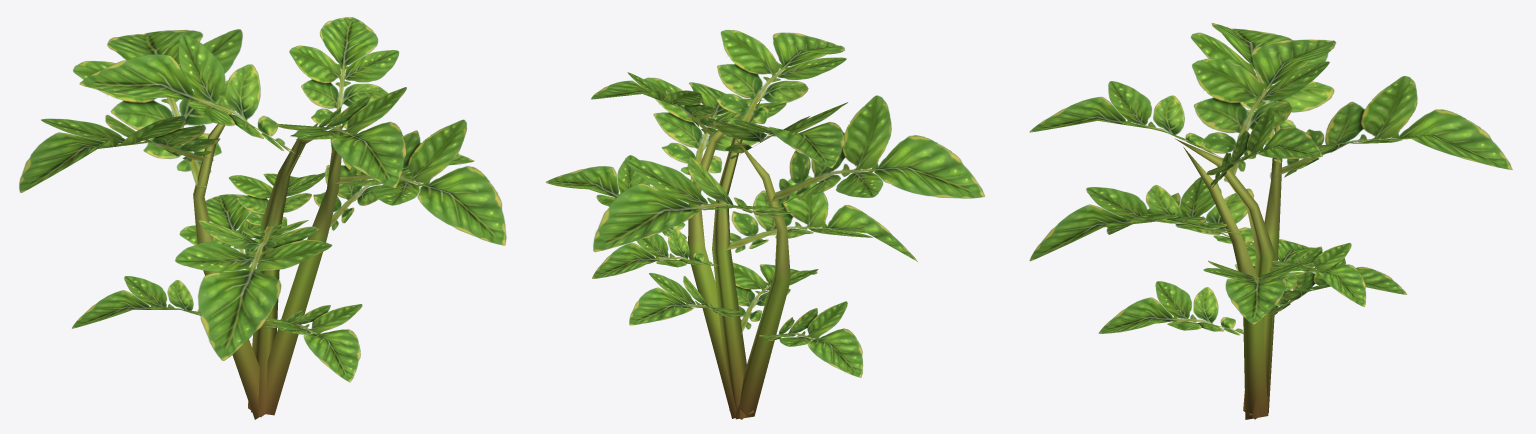
The model's file is plant_potato_S1.gltf.
The picture shows the model from 3 angles, left to right: view 1: azimuth 30°, elevation 25°; view 2: azimuth 150°, elevation 25°; view 3: azimuth 270°, elevation 25°; orthographic projection. The views are drawn at different scales.
Visible parts, largest first — view 1: plant_potato_S1; view 2: plant_potato_S1; view 3: plant_potato_S1.
Part boxes in pixels (x1=…): plant_potato_S1: x1=19, y1=17, x2=506, y2=419; plant_potato_S1: x1=546, y1=30, x2=984, y2=419; plant_potato_S1: x1=1029, y1=23, x2=1512, y2=419.
Size of the model in its own units: 0.3192 by 0.2314 by 0.3083.
1 material, 1 textured.
